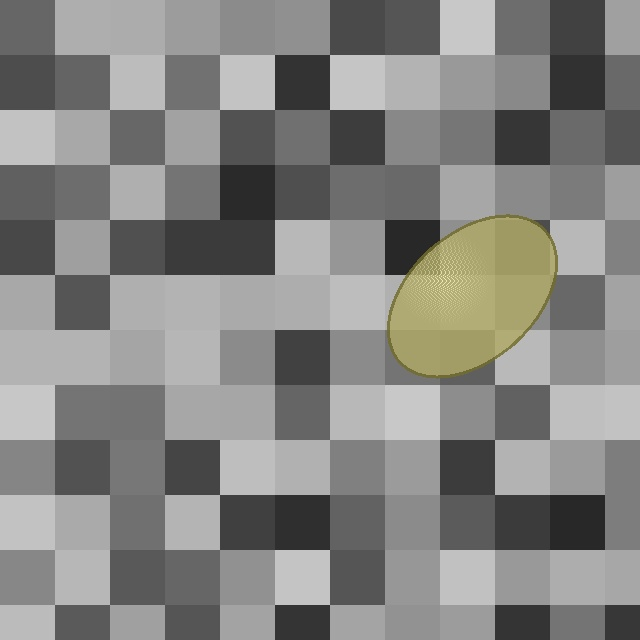lens: (388, 216, 556, 376)
